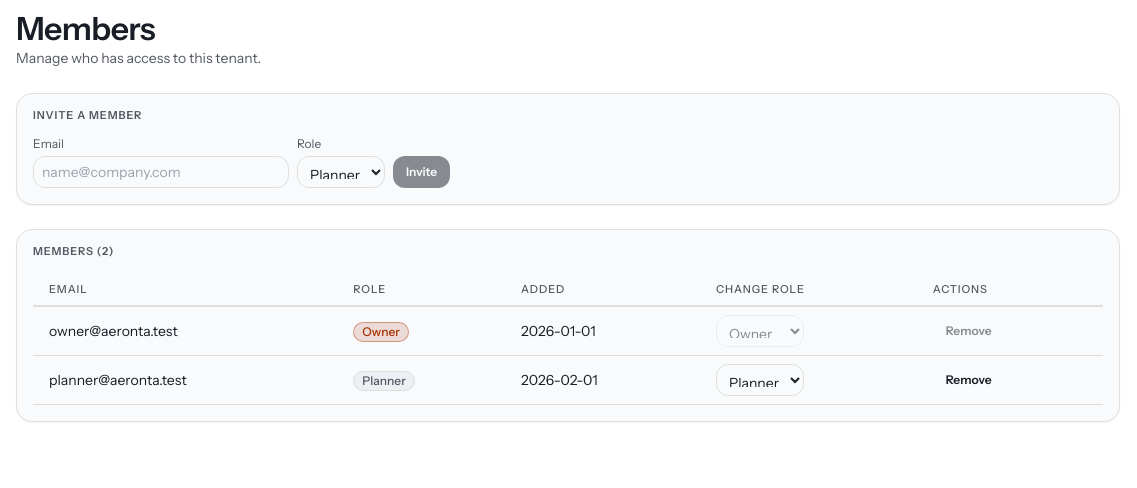
it: Members › invite form POSTs to .../members/invite and the list refetches with the new member
Expected: the text "owner@aeronta.test" is shown, x1=33 y1=307 x2=337 y2=356
Step 1. Type "new@aeronta.test" into the field labelled "Email" → (161, 172), box x1=33 y1=156 x2=289 y2=188
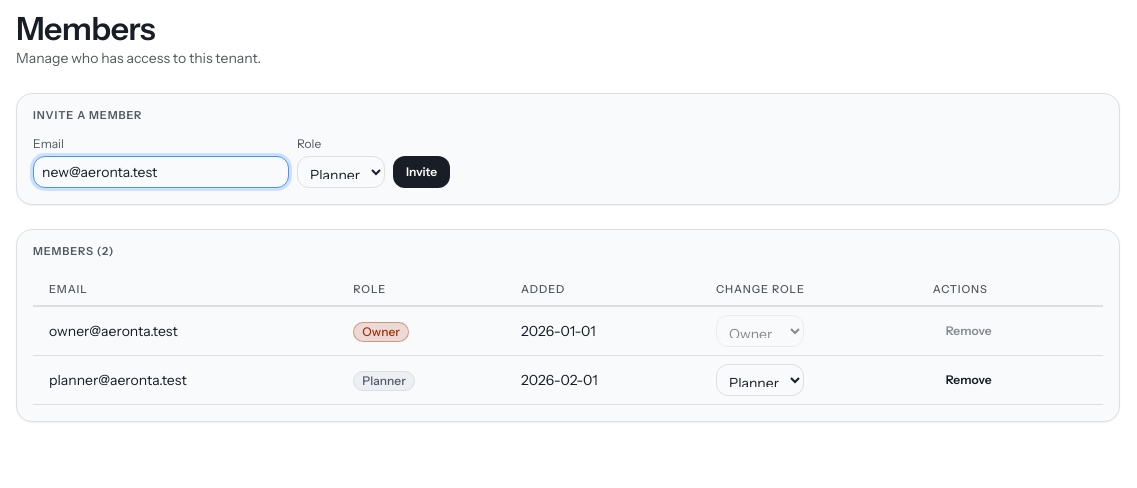
Step 2. Select "Admin" in the dropdown labelled "Role" → (341, 172), box x1=297 y1=156 x2=385 y2=188
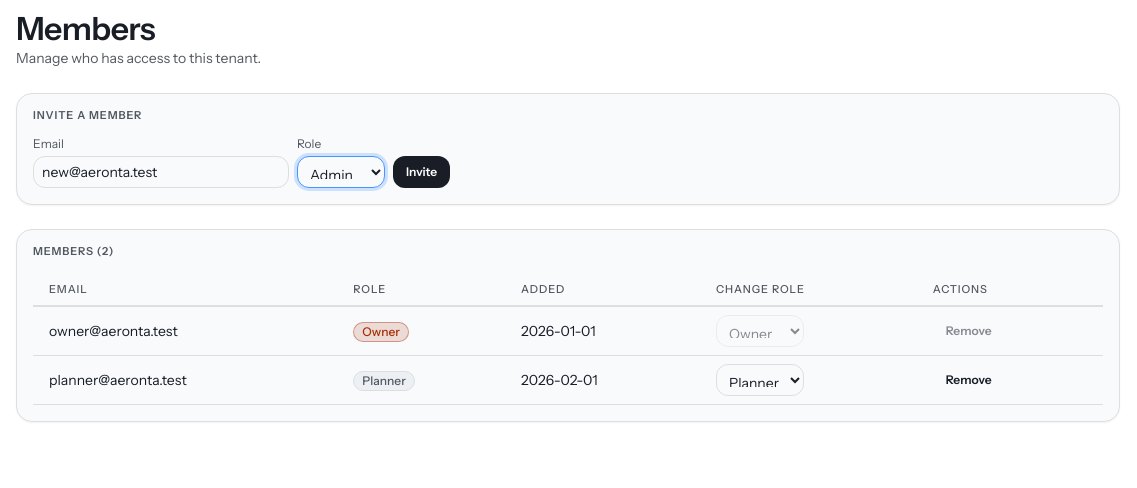
Step 3. Click the button "Invite" → (422, 172), box x1=393 y1=156 x2=450 y2=188
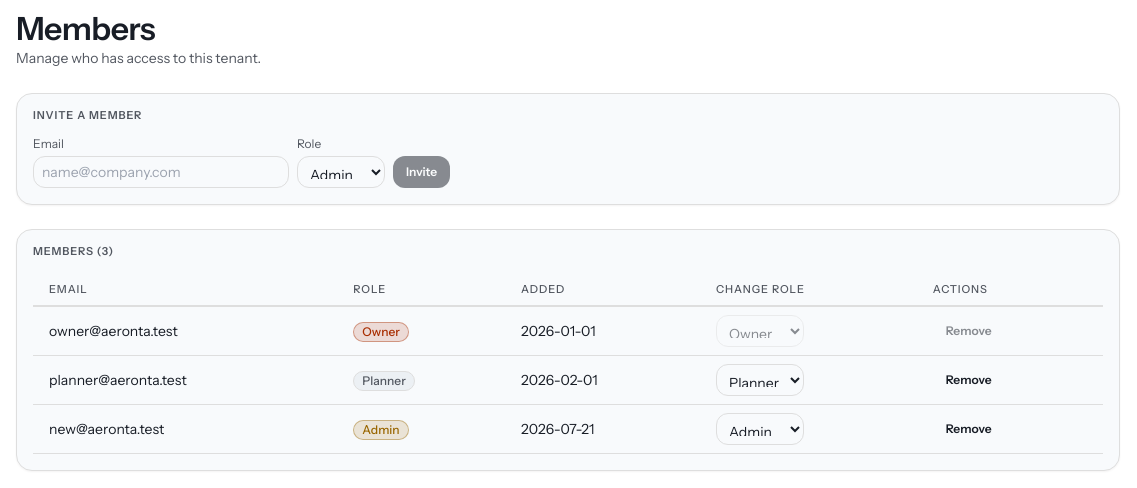
Expected: the text "new@aeronta.test" is shown, x1=33 y1=405 x2=337 y2=454
Expected: the field labelled "Email" is empty, x1=33 y1=156 x2=289 y2=188
